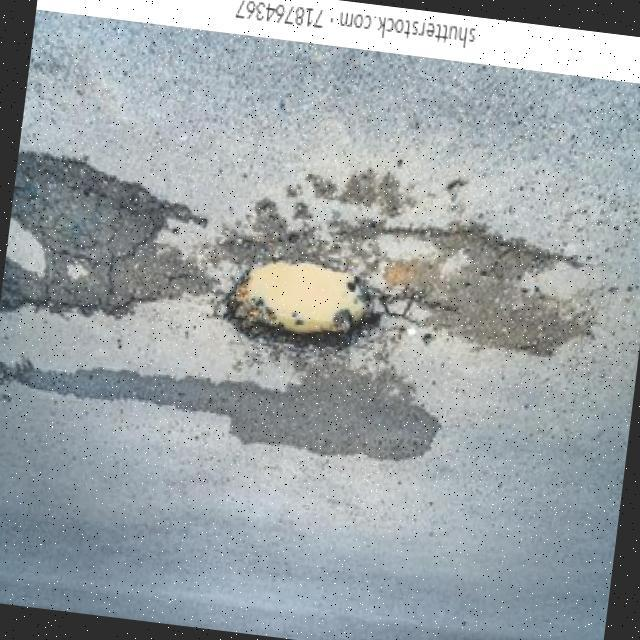Pothole: (223, 260, 380, 349)
